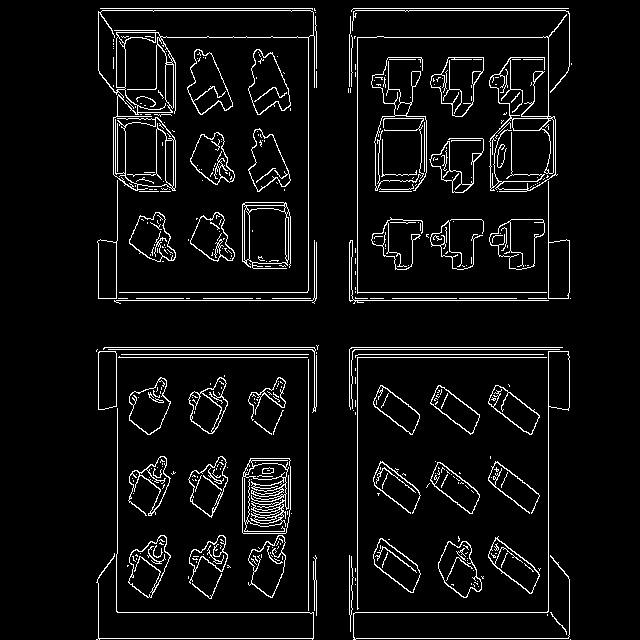Battery: (488, 538, 540, 594), (489, 461, 540, 514), (430, 462, 480, 514), (372, 461, 420, 514), (374, 538, 421, 592), (489, 385, 540, 434), (430, 385, 480, 434), (374, 385, 420, 434)
Pump: (115, 32, 175, 115), (490, 116, 556, 191), (114, 116, 176, 191), (375, 116, 426, 191), (242, 458, 290, 534), (242, 202, 291, 269), (430, 138, 484, 194), (430, 138, 484, 194)
Regulator: (430, 138, 484, 194), (128, 535, 171, 598), (248, 49, 290, 113), (438, 538, 482, 598), (189, 535, 229, 599), (129, 456, 171, 516), (129, 378, 171, 435), (190, 456, 228, 518), (191, 132, 235, 185), (129, 212, 176, 261), (249, 535, 285, 598), (190, 212, 235, 261), (190, 376, 228, 434), (249, 378, 286, 435)
Sensor: (489, 58, 545, 116), (430, 58, 484, 118), (371, 58, 422, 115), (188, 49, 232, 115), (490, 219, 545, 270), (431, 219, 484, 270), (249, 129, 291, 191), (372, 219, 422, 270)
